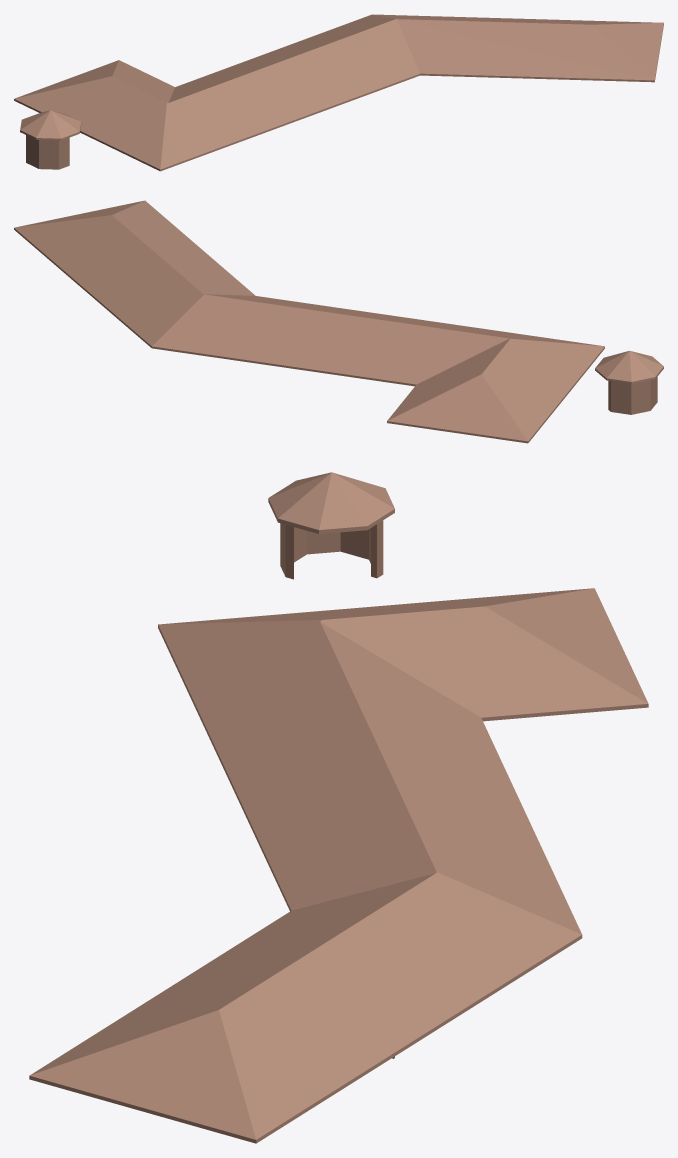
The model's file is revit_nivel_6.glb.
3 views of the same model, one above another, from view 1: azimuth 30°, elevation 25°; view 2: azimuth 150°, elevation 25°; view 3: azimuth 270°, elevation 25° (orthographic). The views are drawn at different scales.
Parts seen in each view (by area): view 1: Revit_CUBIERTA; view 2: Revit_CUBIERTA; view 3: Revit_CUBIERTA.
Part boxes in pixels (bbox=[...]): Revit_CUBIERTA: bbox=[14, 14, 663, 171]; Revit_CUBIERTA: bbox=[14, 200, 663, 443]; Revit_CUBIERTA: bbox=[29, 472, 648, 1143].
Bounding box in the file's own units: 69.46 × 5.23 × 29.95.
